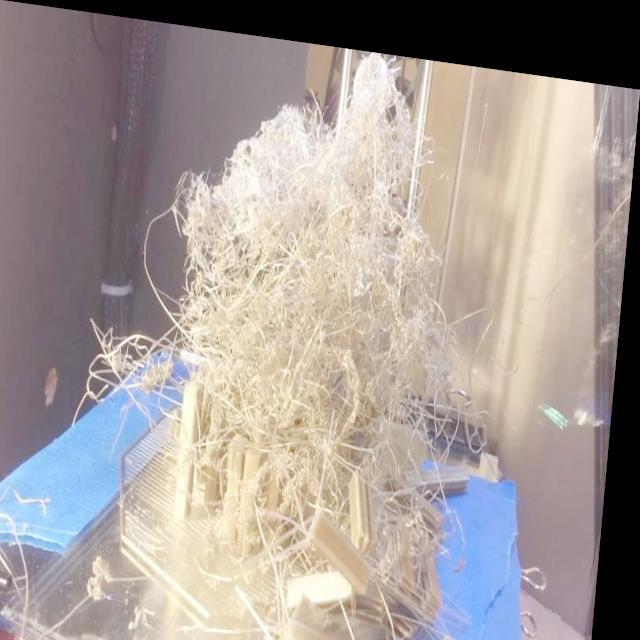spaghetti: (224, 326, 482, 590), (290, 51, 460, 428), (152, 81, 307, 448)
